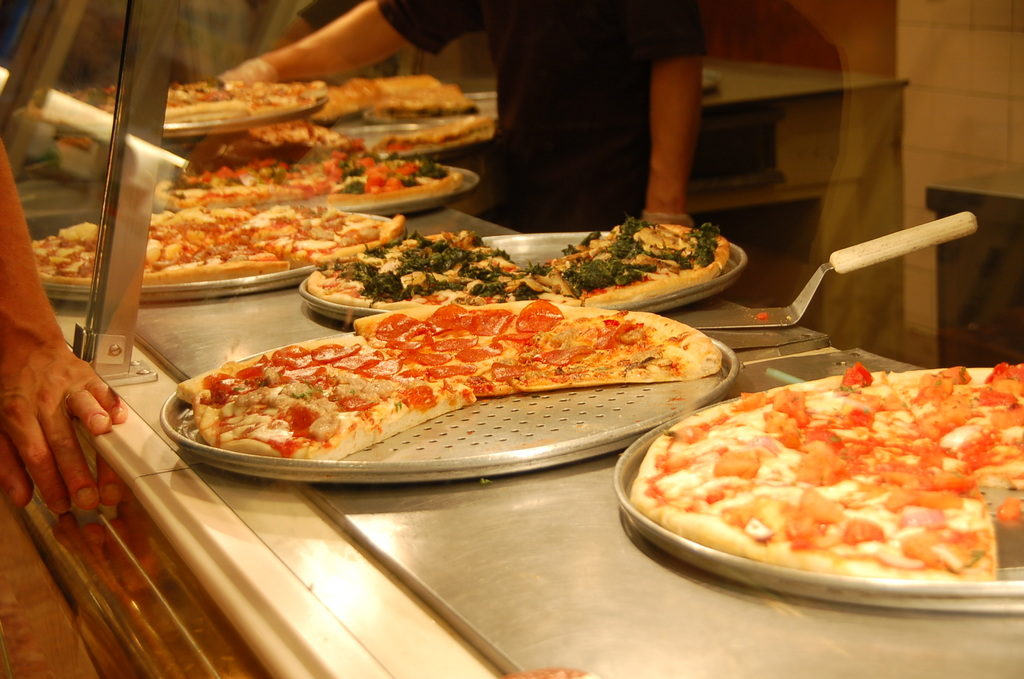Pizza: (628, 354, 1023, 579), (192, 382, 474, 462), (472, 307, 715, 378), (304, 229, 480, 304), (391, 295, 533, 384), (531, 214, 729, 276), (357, 257, 526, 315), (200, 322, 380, 374), (528, 263, 721, 308), (337, 73, 472, 124), (336, 152, 464, 194), (17, 219, 92, 276), (168, 203, 247, 247), (225, 201, 311, 240), (228, 80, 325, 114), (149, 254, 299, 274), (245, 158, 332, 192), (160, 76, 232, 117), (389, 118, 496, 144), (252, 231, 346, 257), (315, 208, 382, 242), (253, 112, 307, 140), (305, 121, 353, 146), (145, 204, 160, 239), (185, 167, 236, 177)
